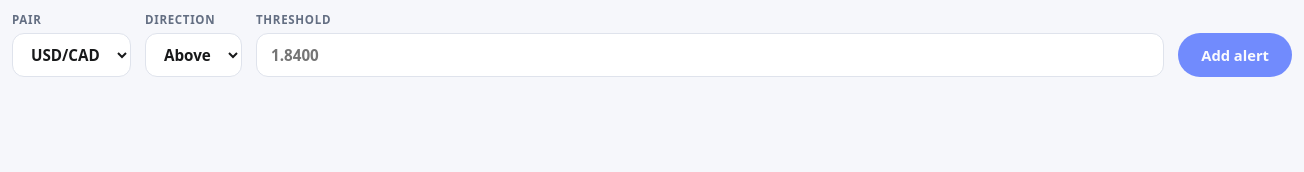
it: submit is disabled until the threshold is a positive number
Check: the submit button is disabled, box x1=1178 y1=33 x2=1292 y2=77
Type "-1" into the number field labelled "Threshold" at (710, 55), box x1=256 y1=33 x2=1164 y2=77
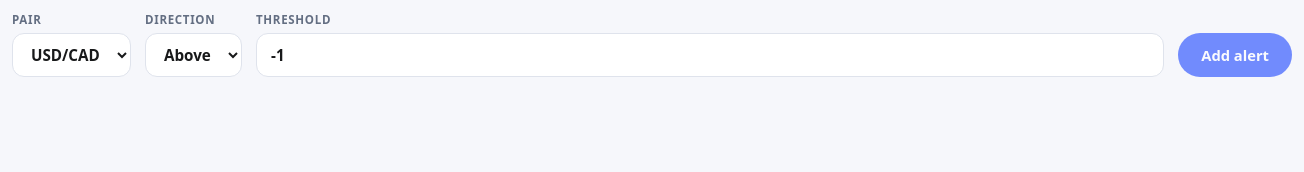
Check: the submit button is disabled, box x1=1178 y1=33 x2=1292 y2=77
Replace the text in the number field labelled "Threshold" with "1.84" at (710, 55), box x1=256 y1=33 x2=1164 y2=77
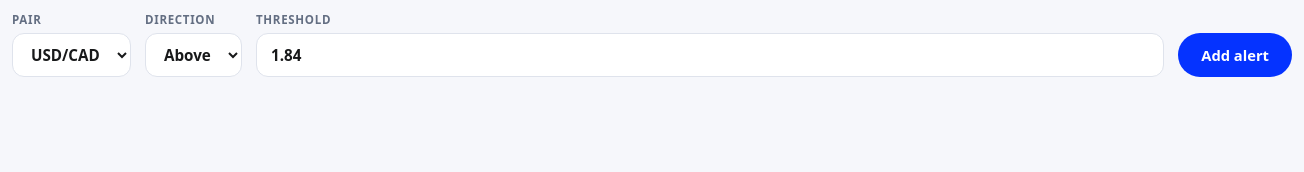
Check: the submit button is enabled, box x1=1178 y1=33 x2=1292 y2=77
